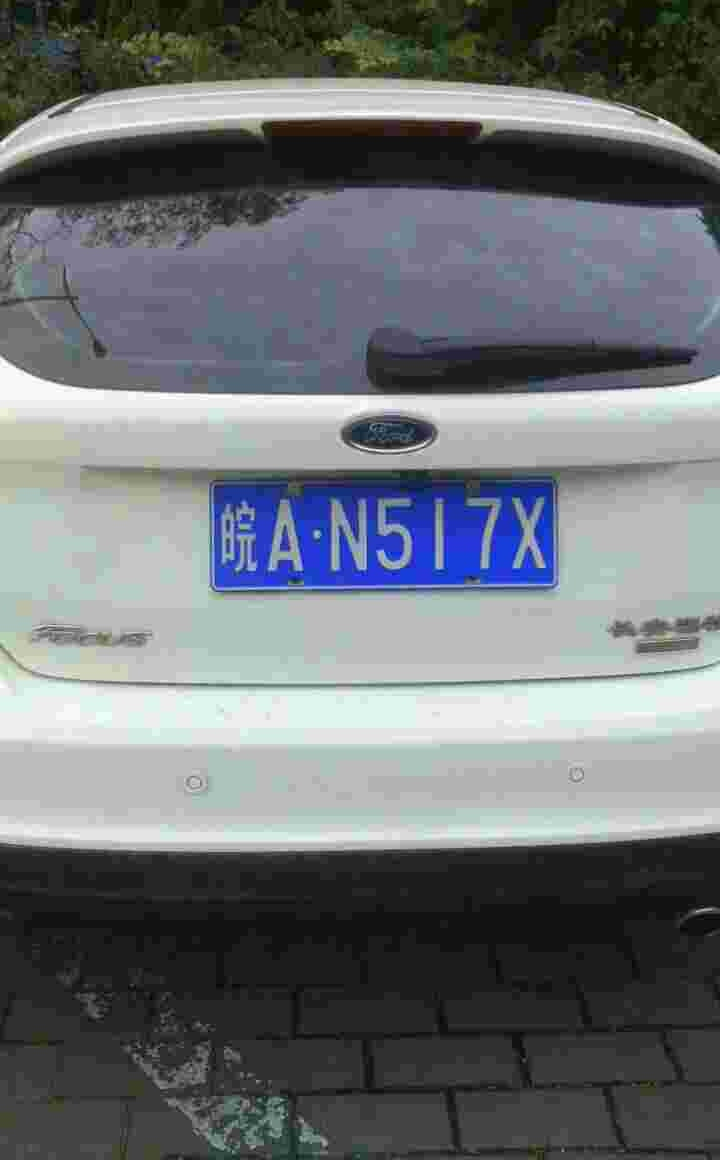license_plate: (212, 474, 562, 578)
